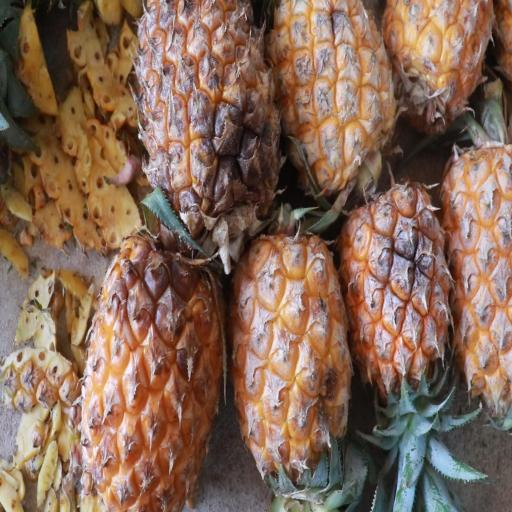Pineapple - v8 v1: (79, 217, 231, 512), (134, 0, 283, 250), (226, 225, 358, 481), (336, 172, 458, 400), (263, 0, 400, 200), (435, 111, 512, 430), (376, 0, 496, 128)
